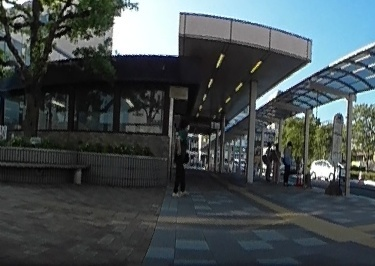person: (172, 121, 189, 197), (261, 140, 274, 182), (283, 141, 295, 180), (273, 142, 284, 182)
